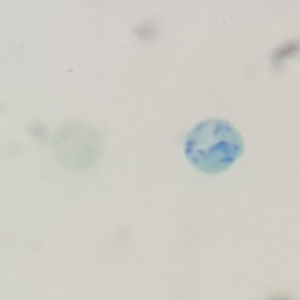aggregate reticulocyte: (181, 116, 247, 178)
erythrocyte: (48, 119, 104, 175)
